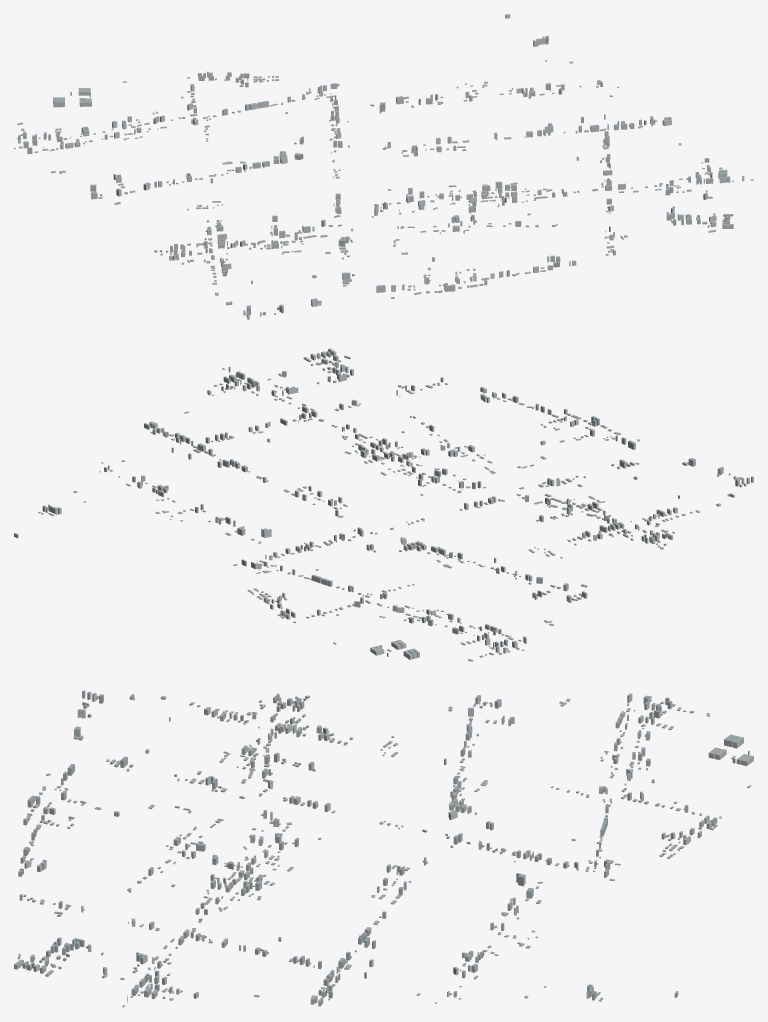
Rendered from far.glb.
The picture shows the model from 3 angles, top to bottom: view 1: azimuth 30°, elevation 25°; view 2: azimuth 150°, elevation 25°; view 3: azimuth 270°, elevation 25°; orthographic projection. The views are drawn at different scales.
Size of the model in its own units: 2085 by 27.6 by 2098.
